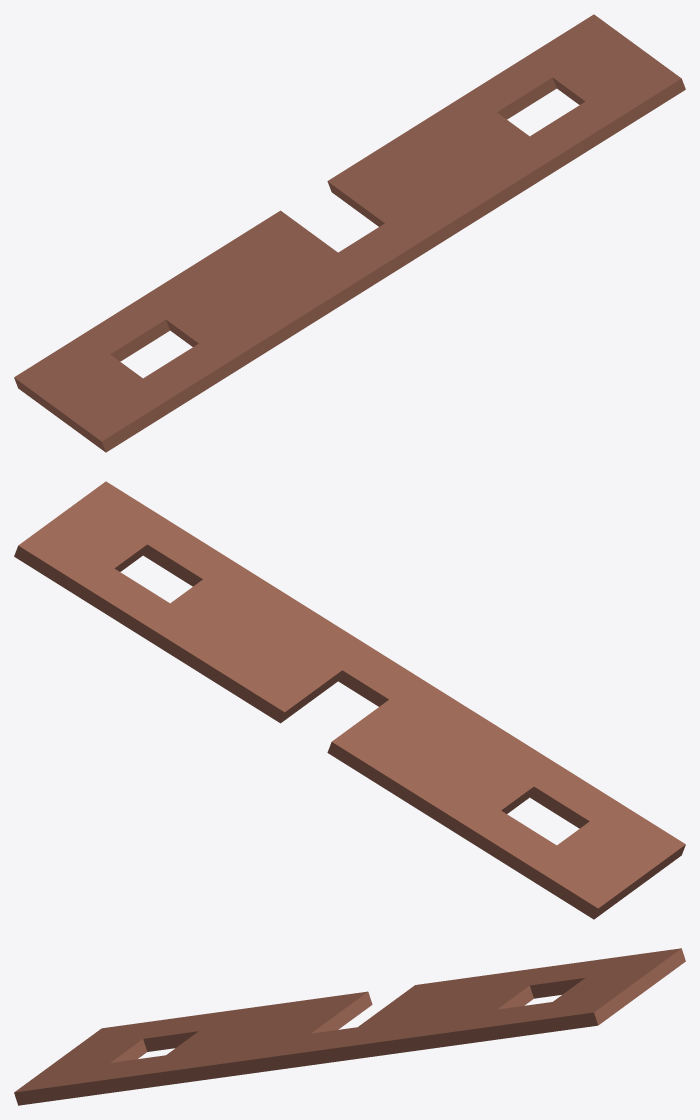
File: SARM_SAR_Building_URB_003_Wall_S_00.glb
The picture shows the model from 3 angles, top to bottom: view 1: azimuth 30°, elevation 25°; view 2: azimuth 150°, elevation 25°; view 3: azimuth 330°, elevation 25°; orthographic projection.
Parts seen in each view (by area): view 1: SAR_Building_URB_003_Wall_S_00.001; view 2: SAR_Building_URB_003_Wall_S_00.001; view 3: SAR_Building_URB_003_Wall_S_00.001.
Boxes of the visible parts, box(x1,y1,x2,y2) form: SAR_Building_URB_003_Wall_S_00.001: box(14, 14, 685, 452); SAR_Building_URB_003_Wall_S_00.001: box(14, 481, 685, 919); SAR_Building_URB_003_Wall_S_00.001: box(14, 948, 685, 1105).
Size of the model in its own units: 12.3 by 4.7 by 3.2.
